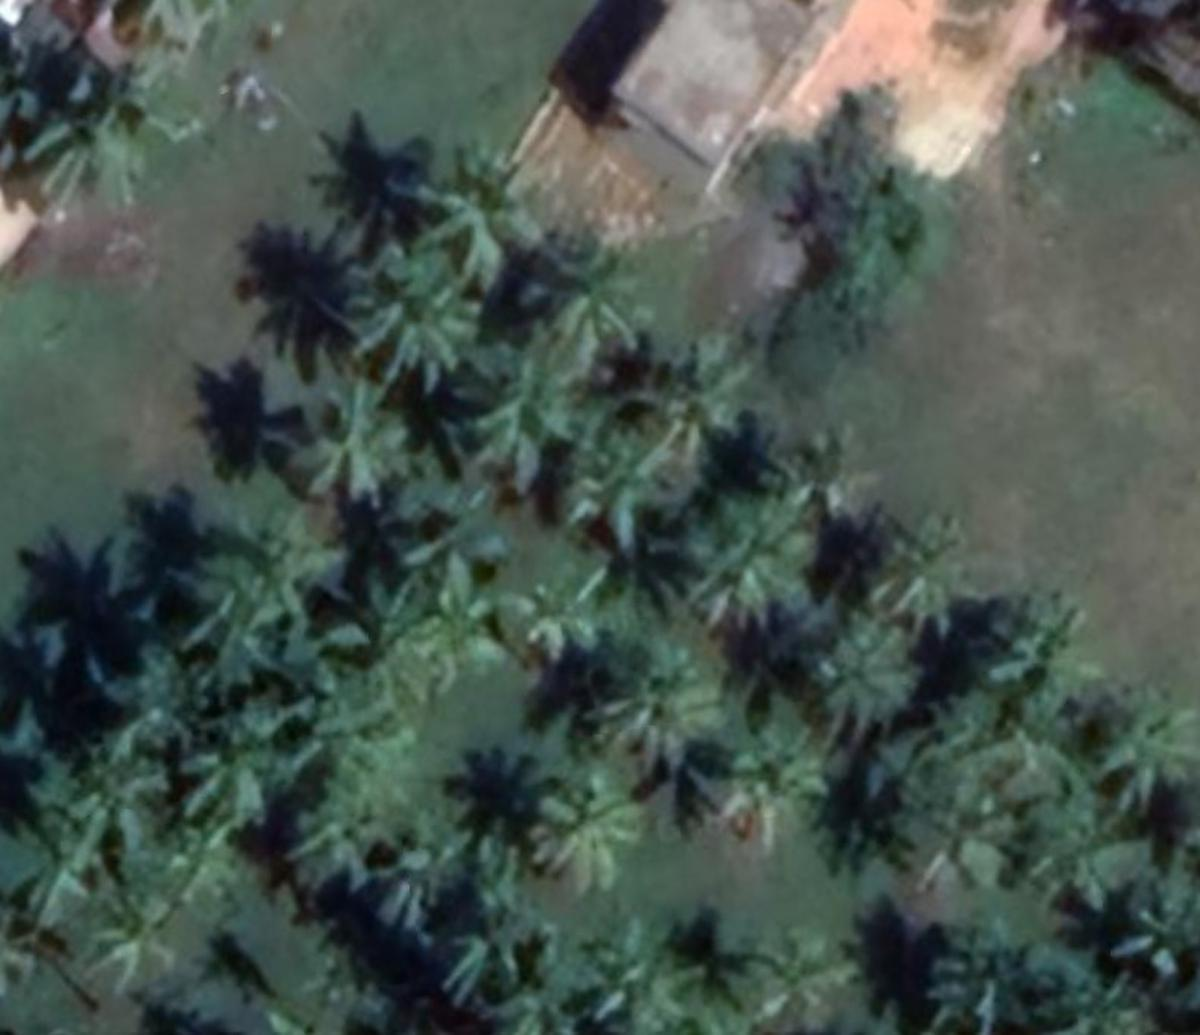coconut: (658, 506, 794, 654), (584, 644, 738, 772), (408, 147, 555, 277), (509, 763, 664, 877), (450, 352, 581, 485), (629, 342, 772, 462), (19, 89, 163, 207), (421, 881, 555, 1004), (59, 732, 183, 866), (348, 251, 476, 379), (168, 525, 324, 628), (995, 590, 1115, 723), (797, 625, 923, 746), (361, 833, 486, 954), (940, 916, 1066, 1035), (849, 502, 964, 632), (304, 377, 423, 500), (271, 784, 389, 899), (914, 780, 1011, 918), (172, 711, 298, 817), (503, 556, 621, 660), (391, 481, 505, 587), (726, 740, 820, 865), (766, 423, 879, 526), (749, 931, 858, 1035), (568, 429, 665, 544), (81, 881, 189, 984), (1102, 698, 1200, 805), (538, 253, 641, 350), (412, 578, 503, 679)
